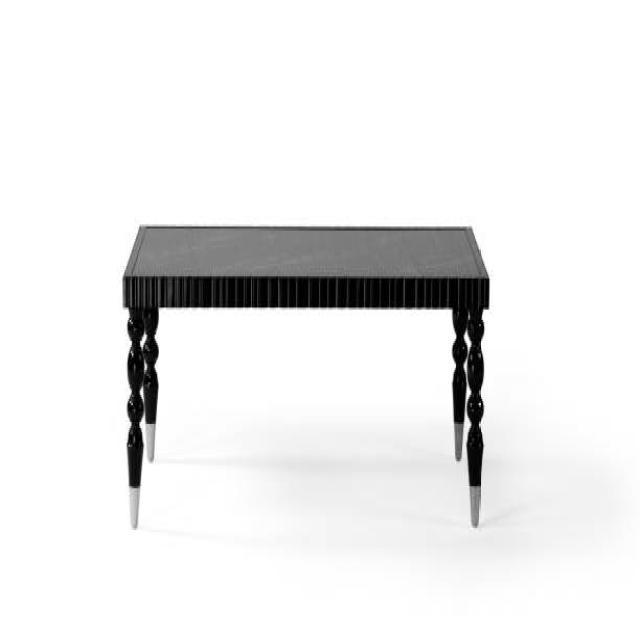table: (122, 222, 490, 530)
